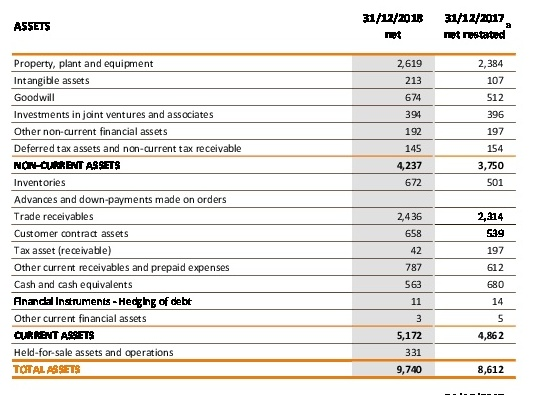table: (0, 0, 535, 395)
